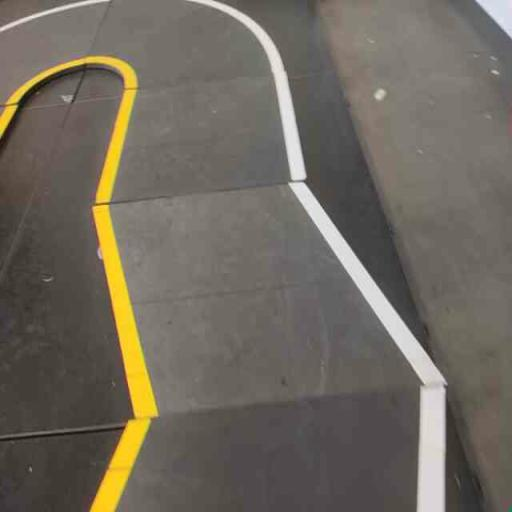crossleft: (81, 179, 452, 423)
